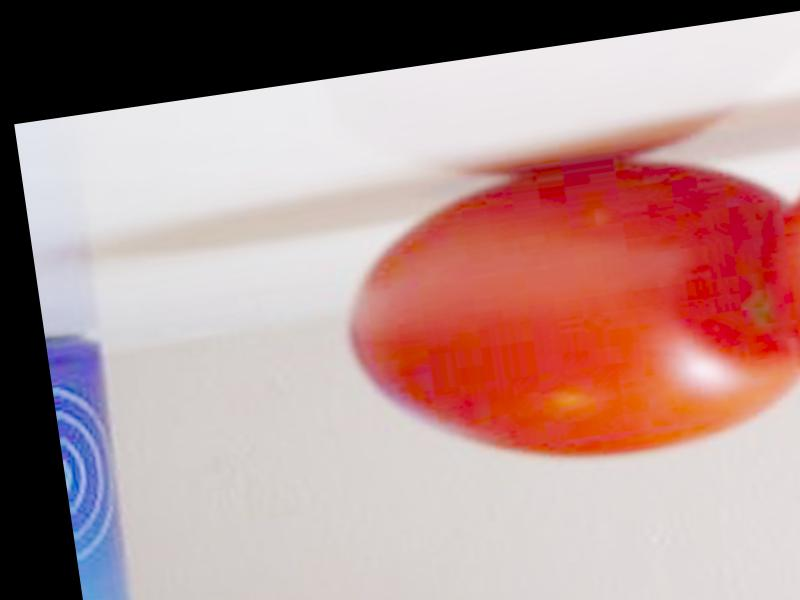Tomato: (331, 134, 800, 489)
